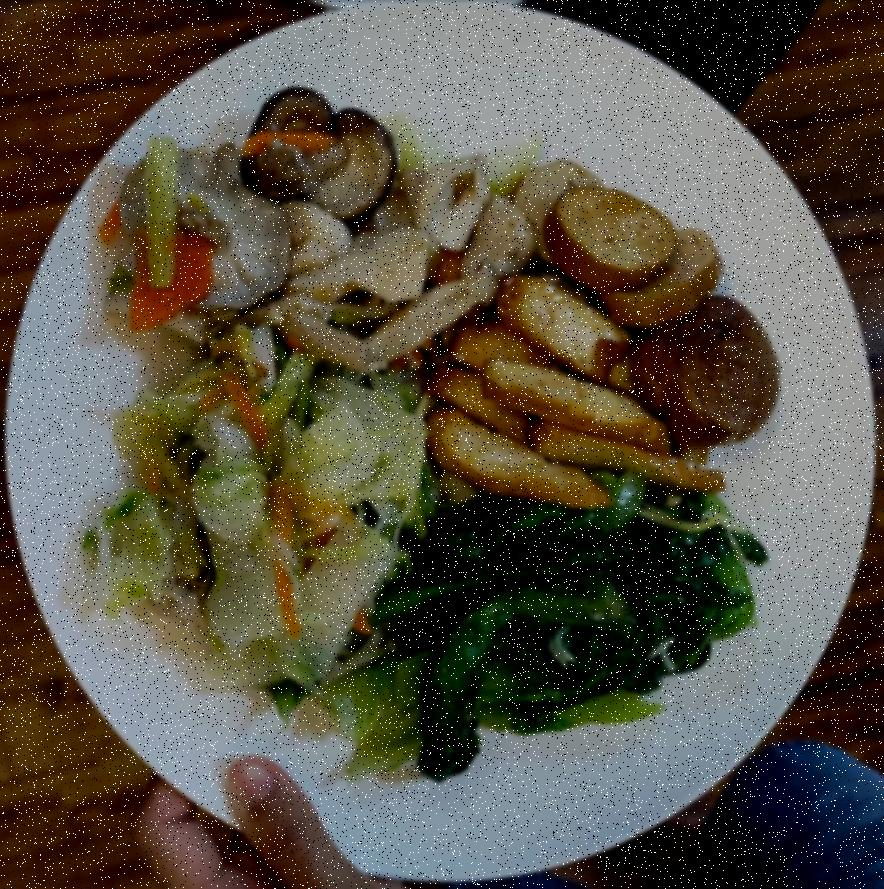plate: (0, 8, 884, 889)
side dish: (337, 484, 764, 782), (98, 86, 538, 362), (438, 168, 782, 504), (89, 358, 422, 682)
